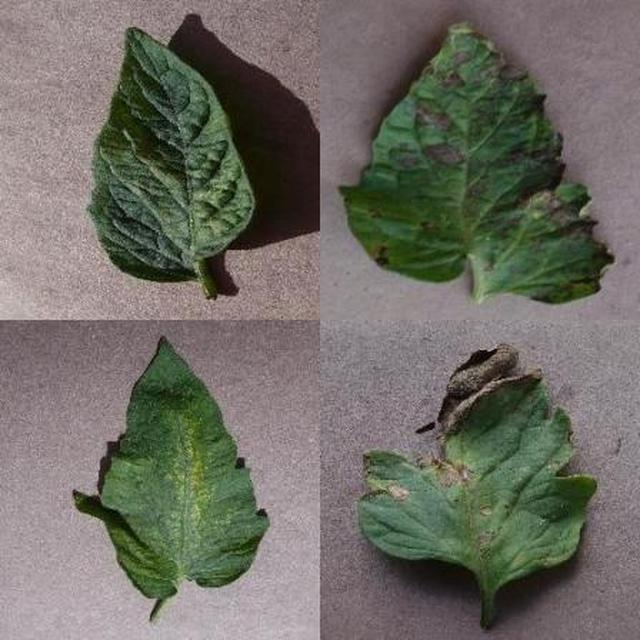Spider Mites Leaf: (234, 220, 640, 640)
